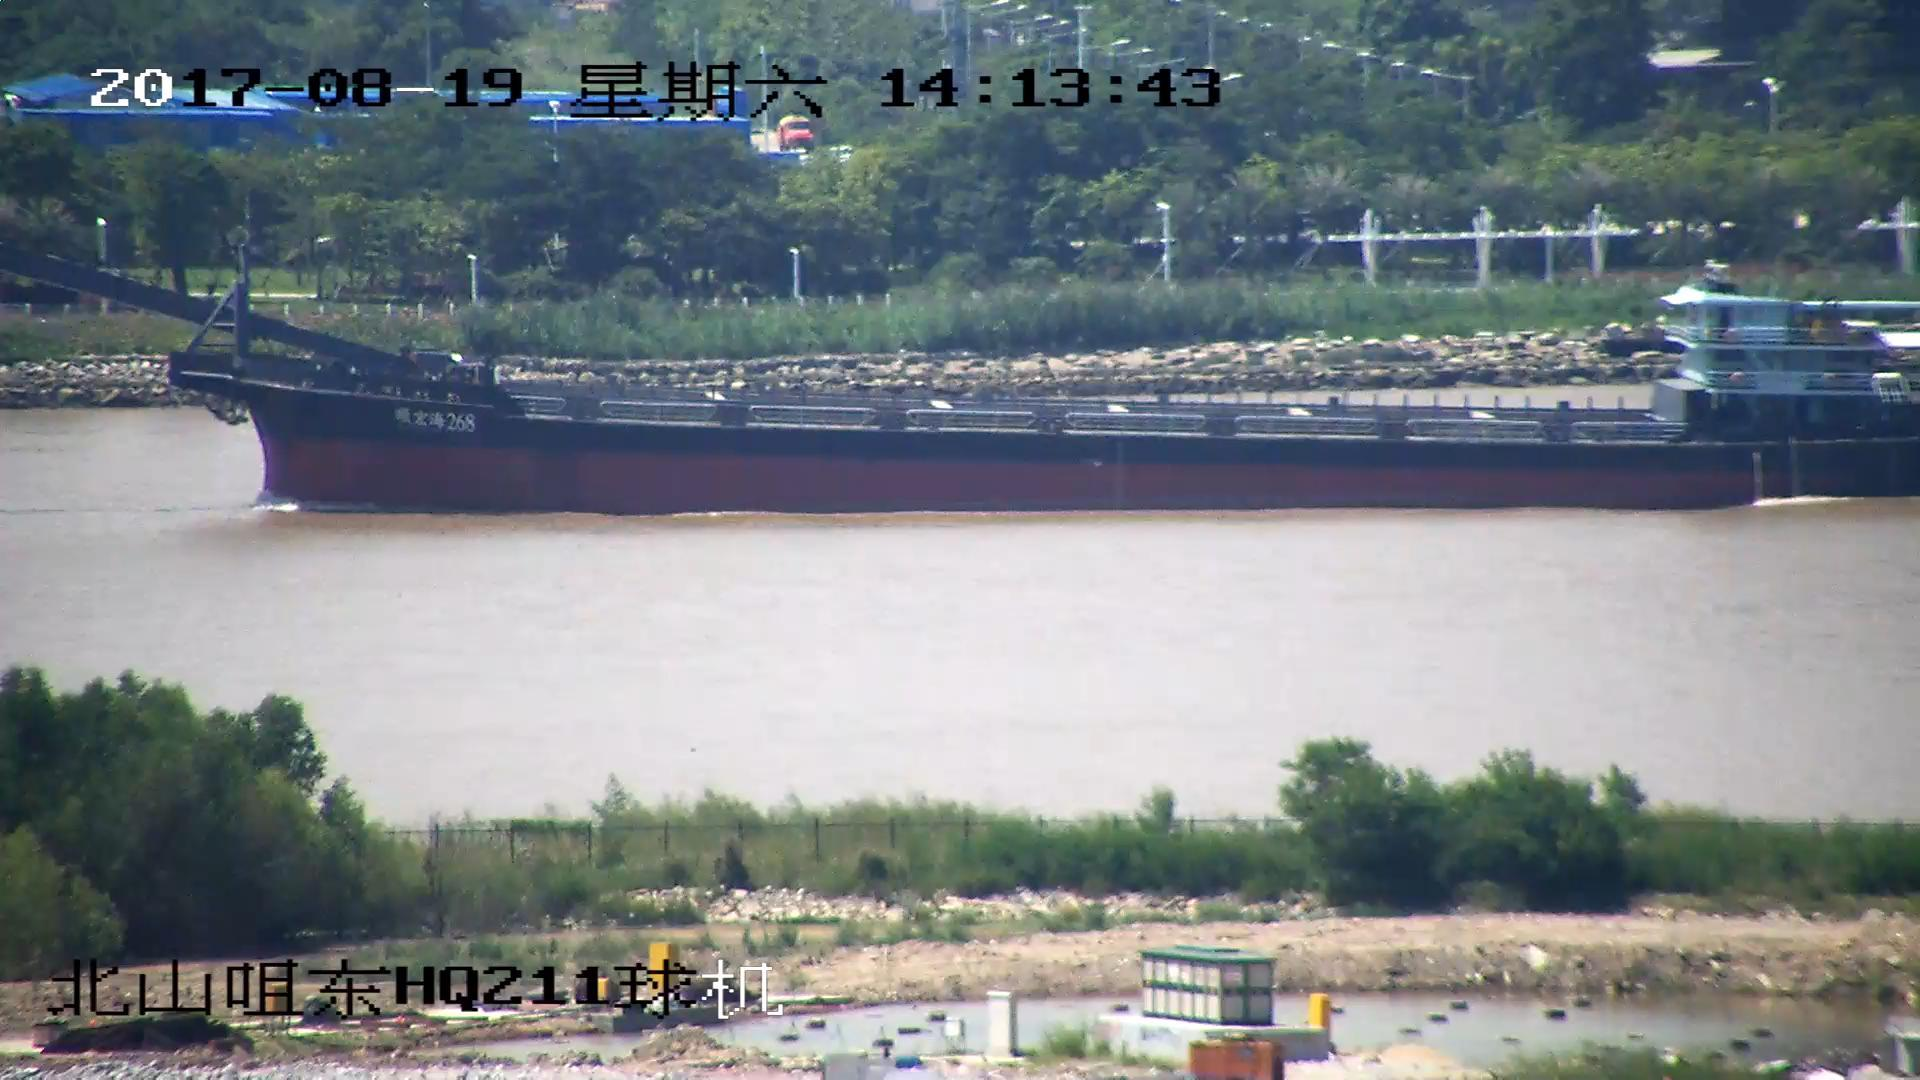Ship: (3, 237, 1920, 517)
